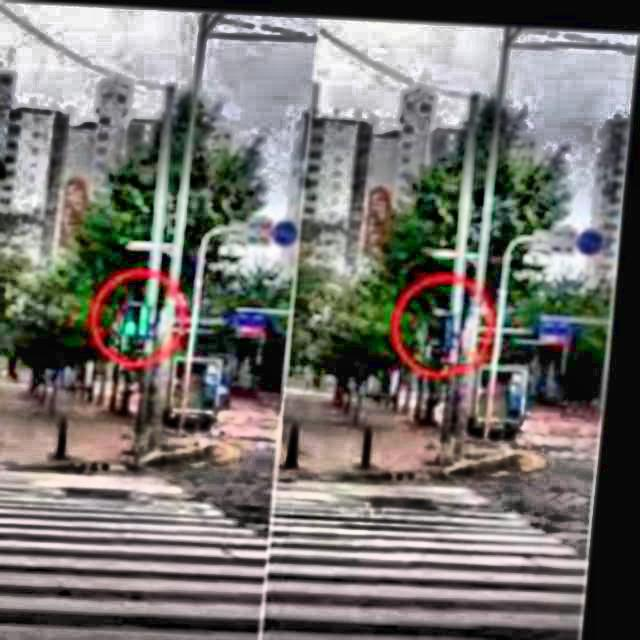semaforo pedestre: (108, 287, 182, 359)
